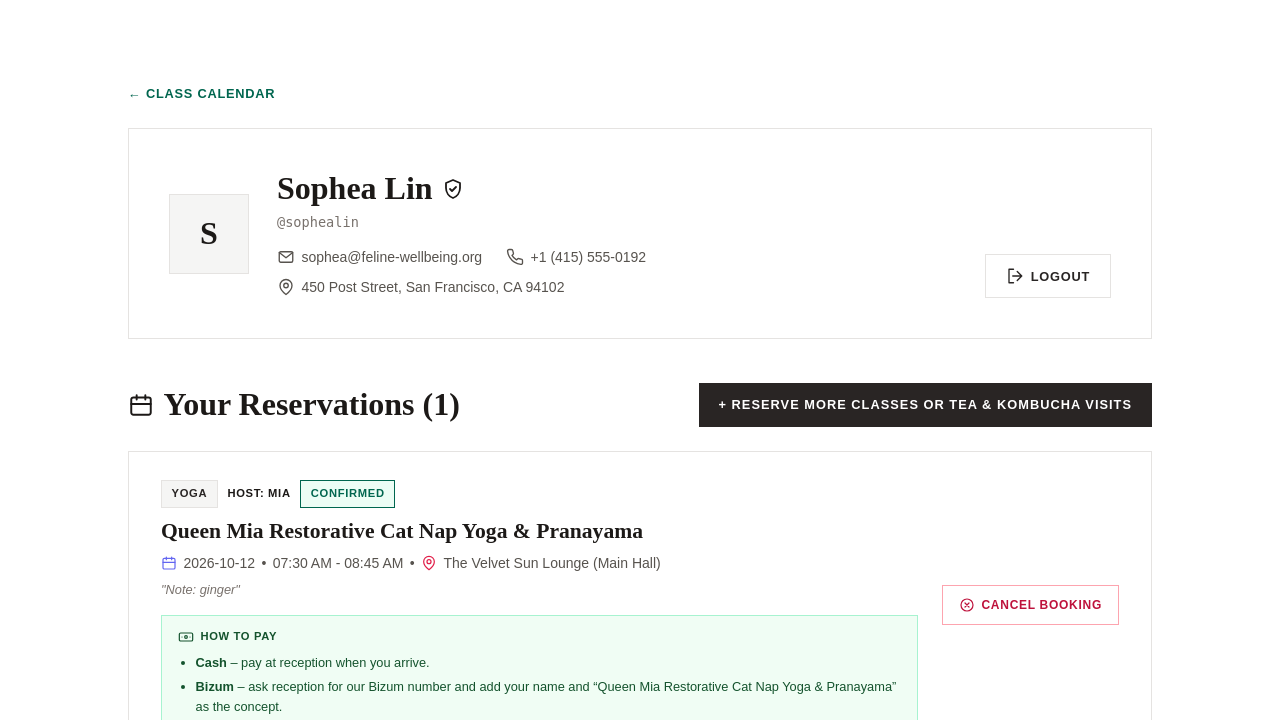
Test case: DashboardView › cancels a booking, shows it as cancelled and removes its cancel button
The image size is (1280, 720).
Click the button "Cancel Booking" at (1031, 605), box top-left (942, 585), bottom-right (1119, 625)
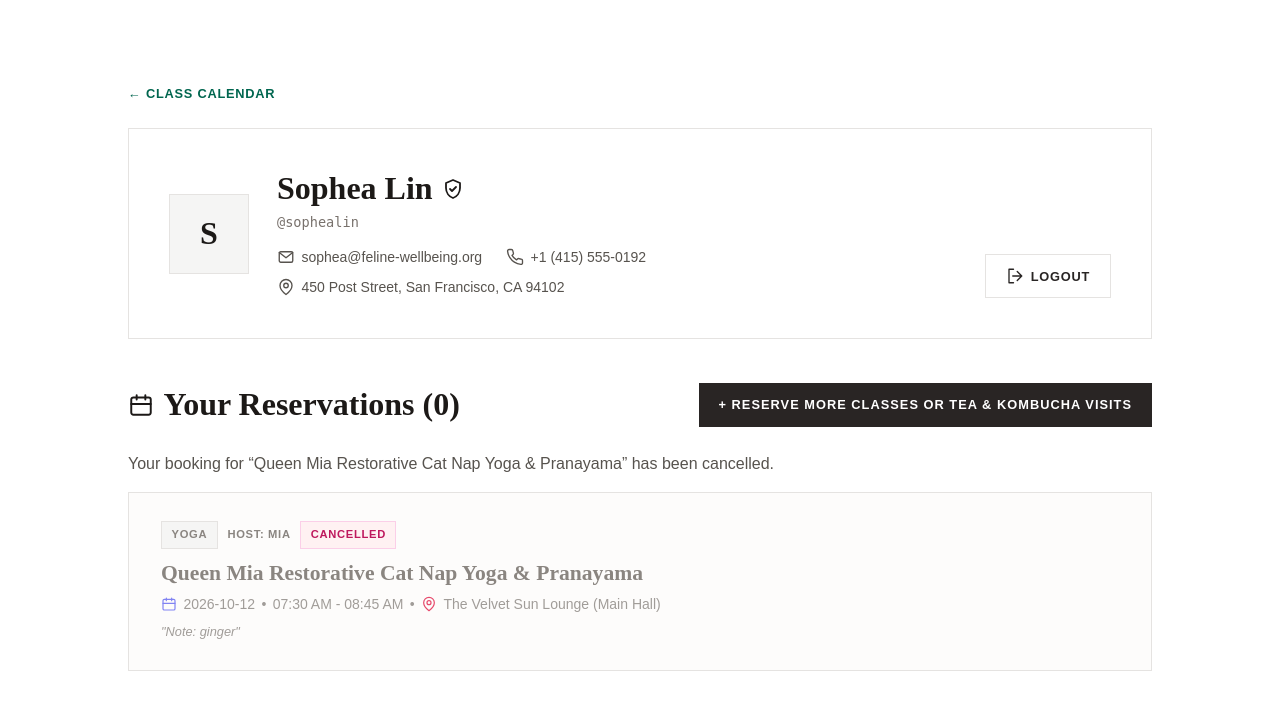
Expected: the text "Cancelled" is shown, top-left (128, 455), bottom-right (774, 472)
Expected: the text "Your Reservations (0)" is shown, top-left (128, 379), bottom-right (460, 431)
Expected: the text "Your booking for “Queen Mia Restorative Cat Nap Yoga & Pranayama” has been cancelled." is shown, top-left (128, 455), bottom-right (774, 472)
